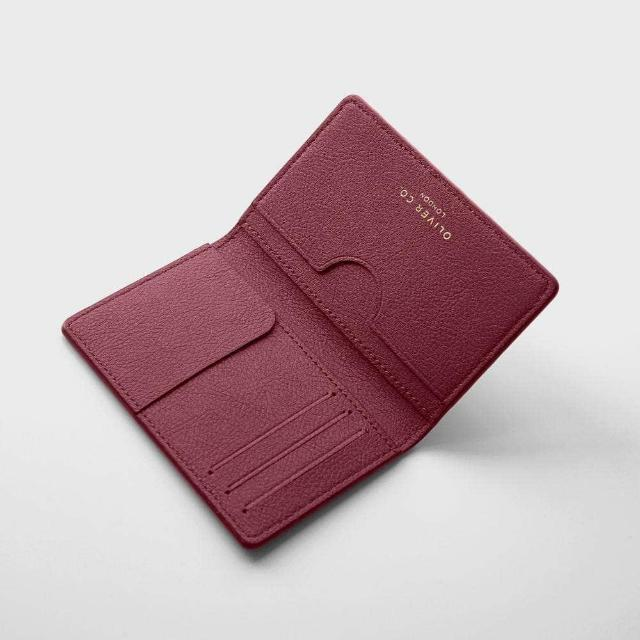wallet: (67, 93, 561, 549)
